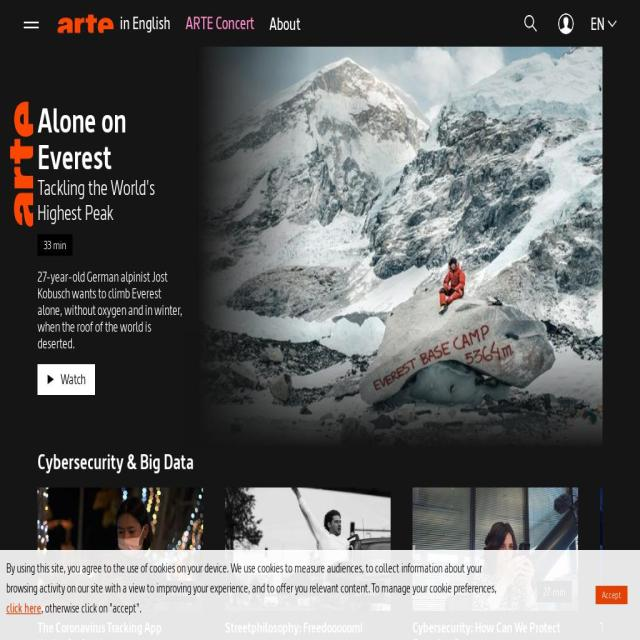button: (37, 487, 209, 640), (225, 487, 397, 640), (412, 487, 584, 640), (0, 0, 320, 47), (320, 0, 640, 47), (600, 487, 640, 640), (50, 0, 178, 47), (178, 0, 262, 47), (262, 0, 308, 47), (583, 0, 628, 47), (37, 363, 95, 395), (12, 0, 50, 47), (595, 586, 627, 604)
heading: (37, 268, 186, 352), (37, 102, 186, 176), (37, 175, 186, 226), (38, 450, 194, 475), (413, 619, 578, 640), (225, 619, 391, 636), (38, 619, 203, 636), (600, 619, 640, 636), (38, 636, 203, 640)
image: (186, 47, 603, 450), (225, 487, 391, 611), (38, 487, 203, 611), (413, 487, 578, 611), (600, 487, 640, 611), (7, 101, 38, 227)
link: (6, 600, 42, 617)
text: (6, 560, 496, 597), (186, 0, 254, 47), (120, 0, 171, 47), (41, 600, 141, 617), (38, 233, 72, 256), (537, 581, 572, 602), (350, 581, 384, 602), (165, 581, 197, 602), (60, 372, 86, 386), (590, 14, 604, 33)
